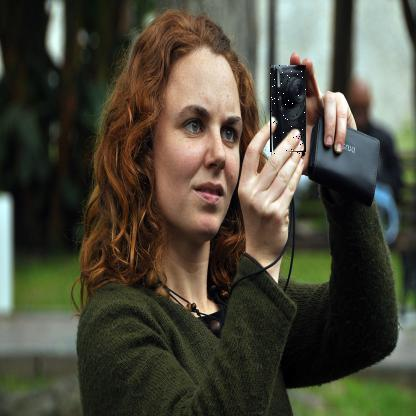Camera: (271, 67, 308, 157)
